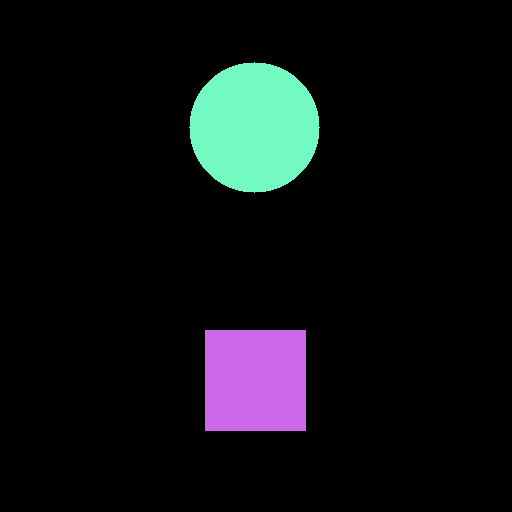circle: (189, 62, 319, 192)
square: (205, 330, 305, 430)
